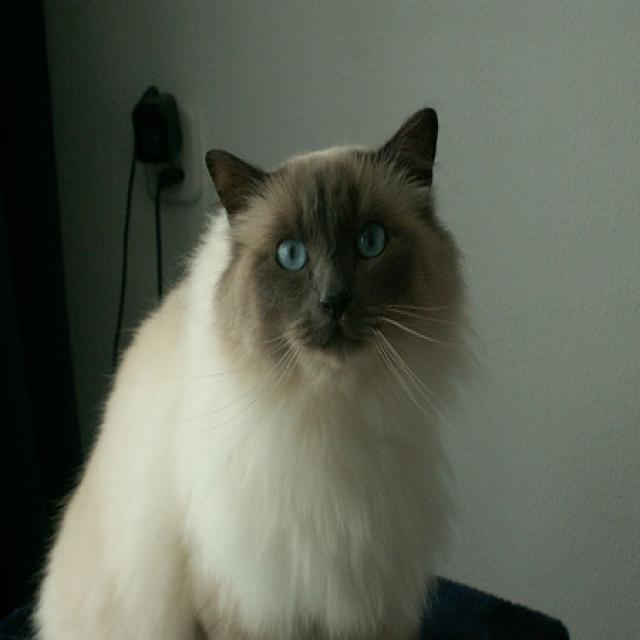Birman: (30, 104, 471, 640)
